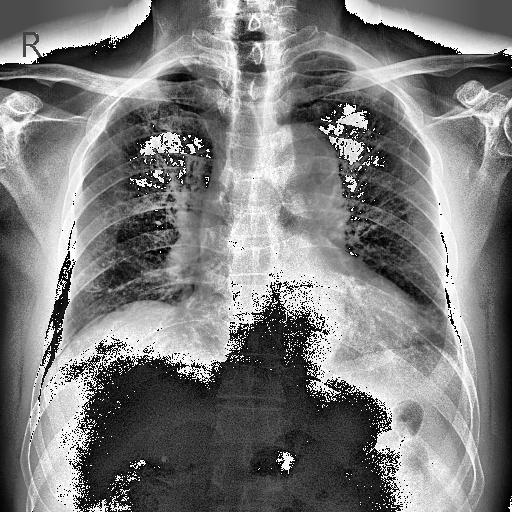0- Aortic enlargement: (257, 120, 344, 198), (270, 125, 343, 209), (262, 123, 342, 199)
11- Pleural thickening: (153, 56, 207, 77)
3- Cardiomegaly: (181, 263, 434, 349), (181, 284, 437, 358), (190, 270, 422, 339)
9- Other lesion: (88, 300, 142, 328)
